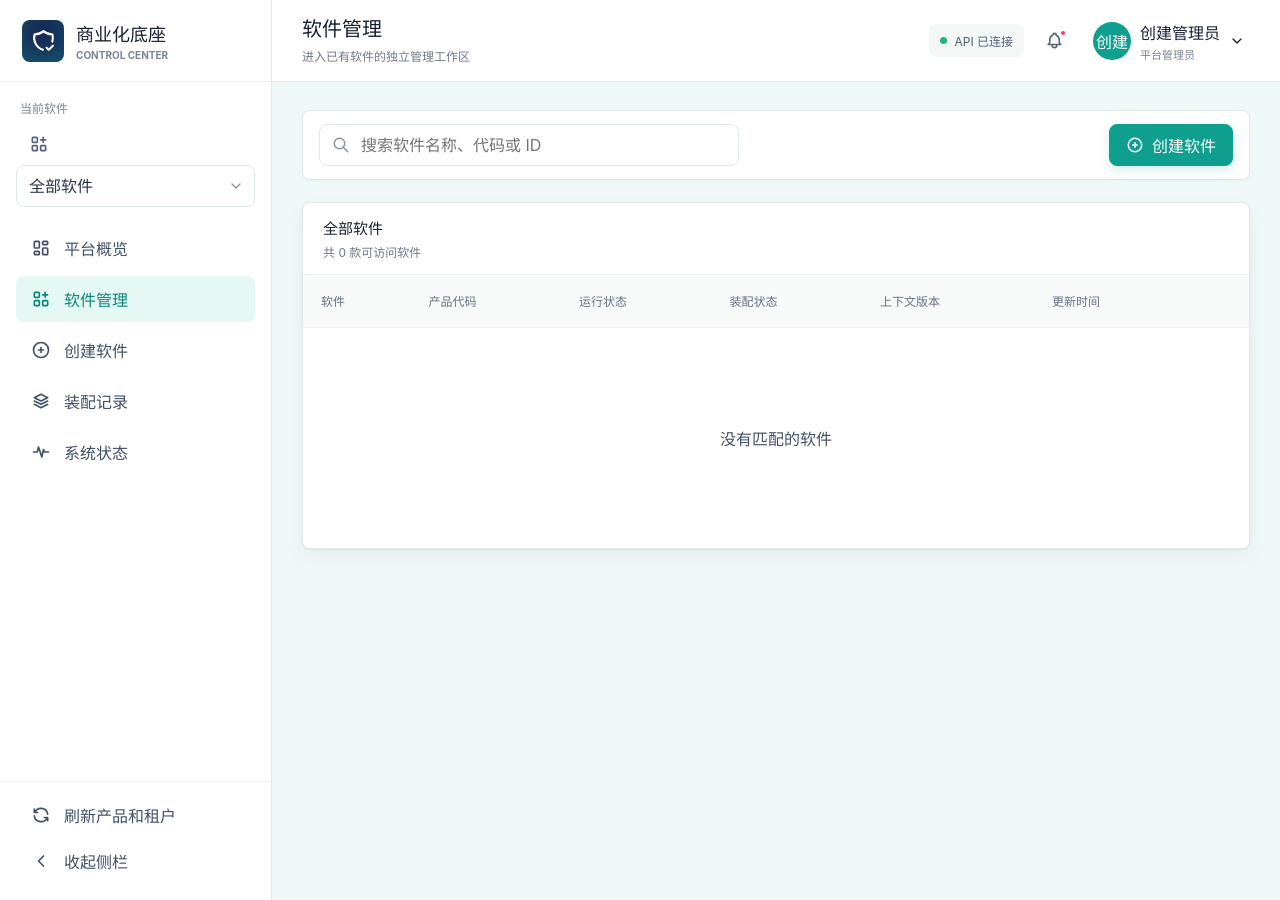
Test: 创建软件向导 › 软件管理的创建按钮进入向导而不直接创建 Product
Check: the heading "软件管理" is shown, box [302,17,382,41]
Step 1. Click the button "创建软件" below "API 已连接" → (1171,145), box [1109,124,1233,166]
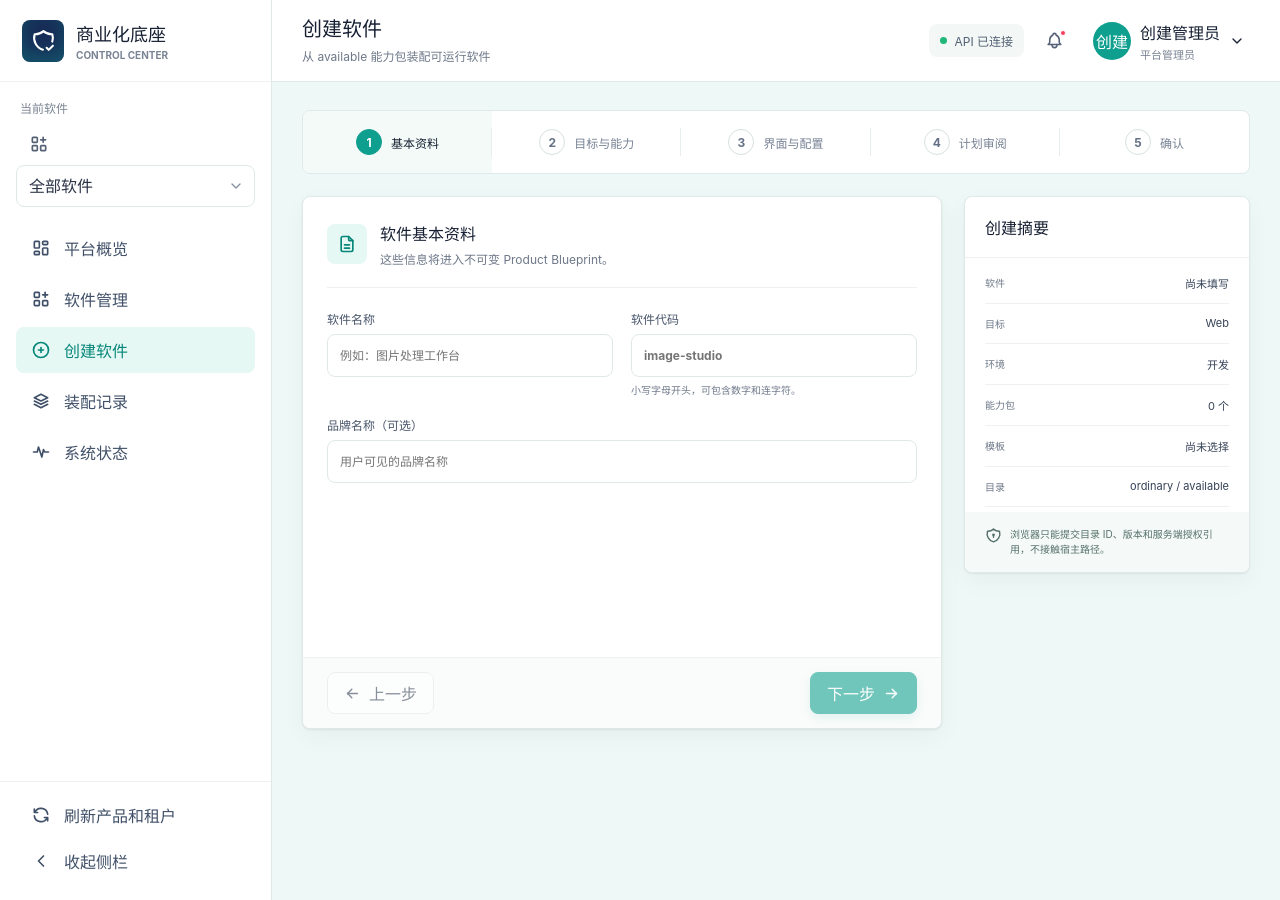
Check: the heading "创建软件" is shown, box [302,17,382,41]
